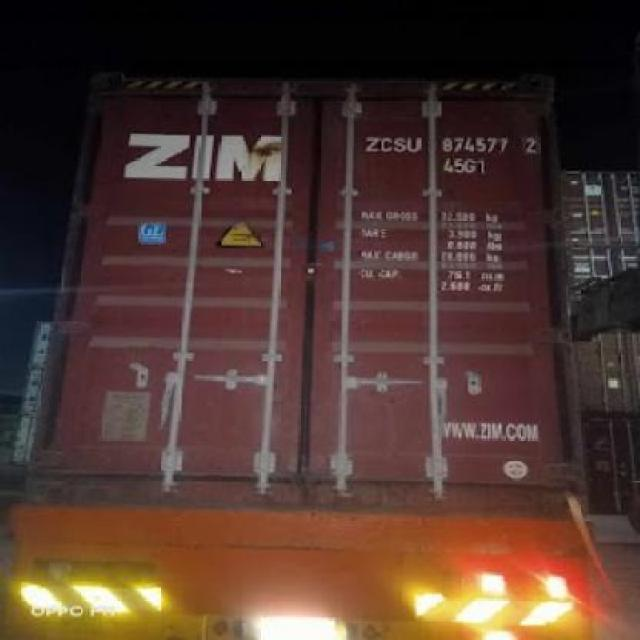ISO: (444, 156, 488, 175)
container_number: (362, 130, 536, 154)
